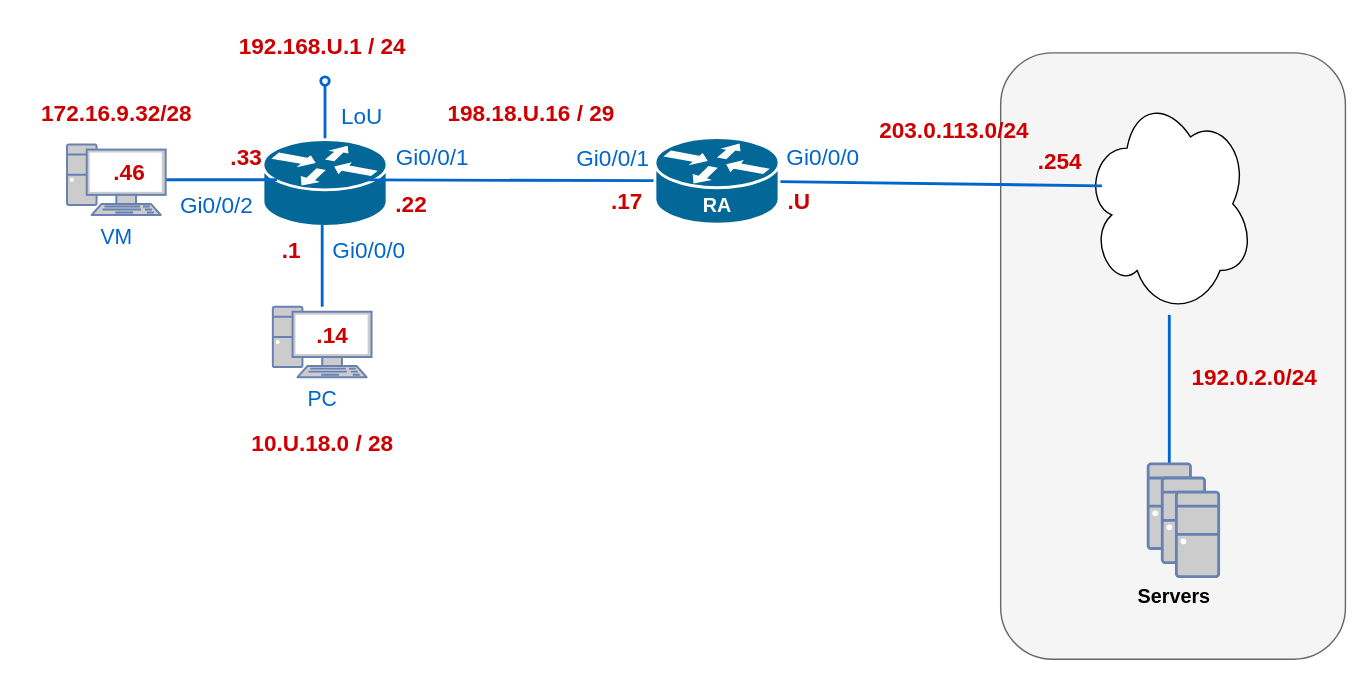
This 1371x684 diagram has some shape labels left out. The centre of each missing label's shape, as x and y in pixels:
"RB" belongs at pixel 324 182.
"REMOTE Network" belongs at pixel 1168 203.
